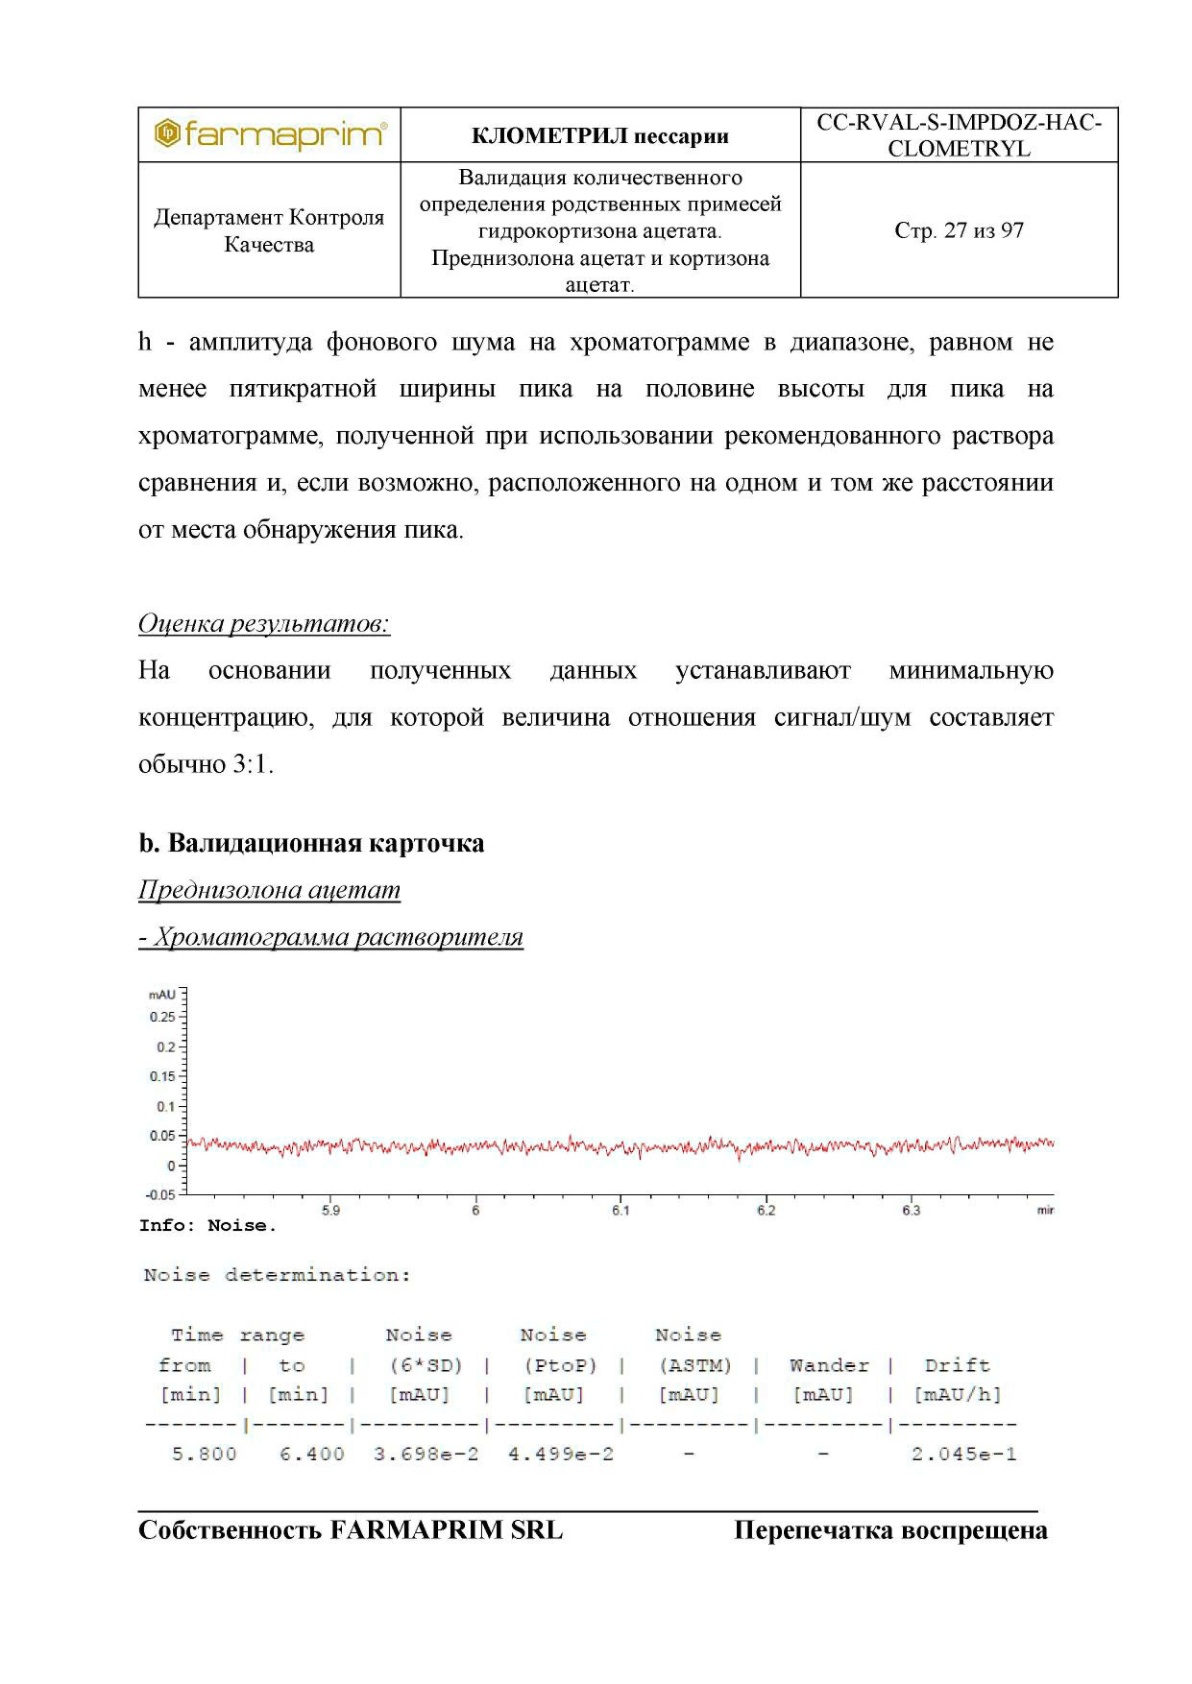full_lined: (135, 106, 1121, 299)
partial_lined: (144, 1320, 1018, 1473)
